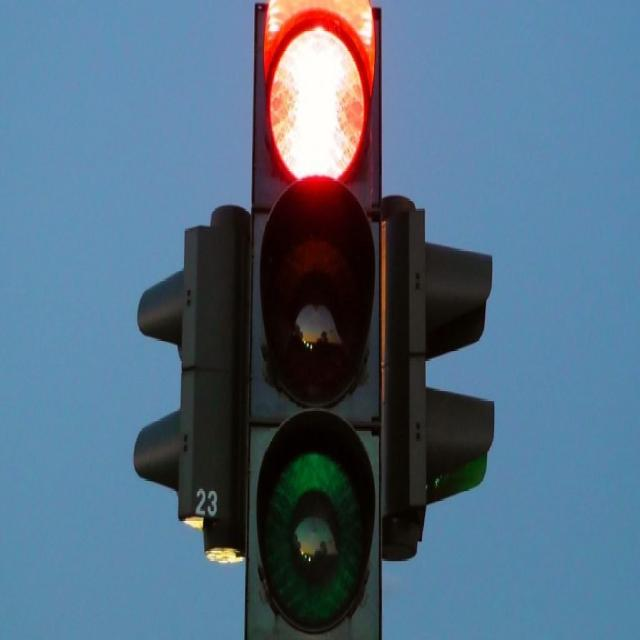red: (264, 9, 370, 187)
